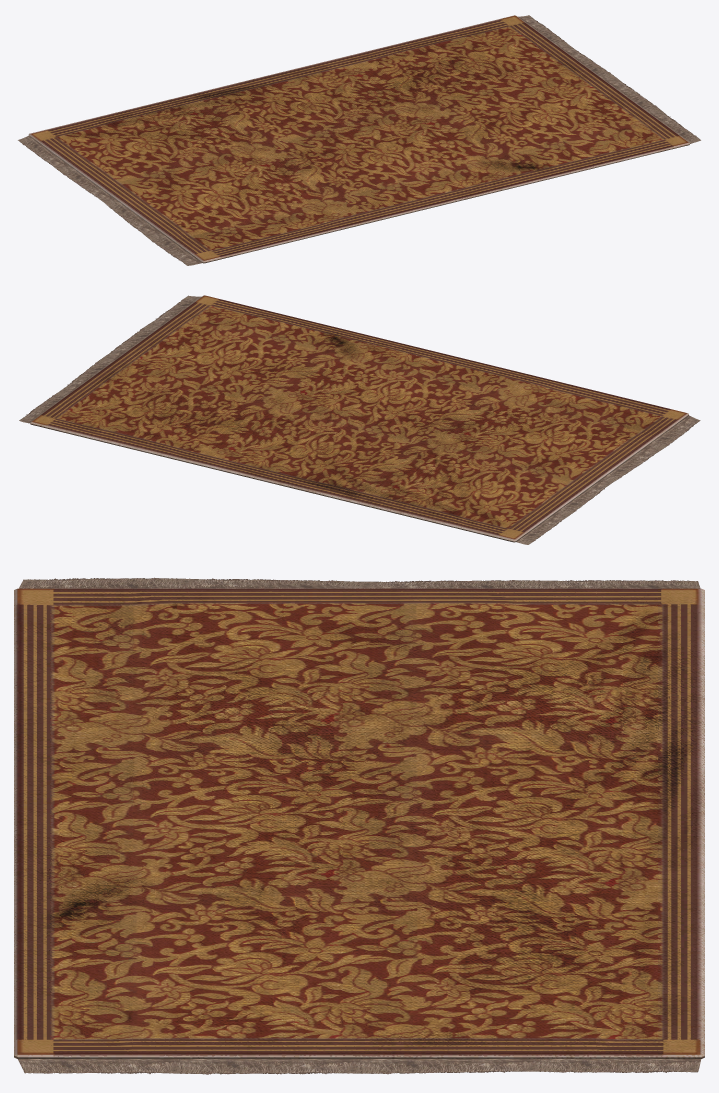
Rendered from Carpet_C.obj.
The picture shows the model from 3 angles, top to bottom: view 1: azimuth 30°, elevation 25°; view 2: azimuth 150°, elevation 25°; view 3: azimuth 270°, elevation 25°; orthographic projection. The views are drawn at different scales.
Visible parts, largest first — view 1: Carpet_C; view 2: Carpet_C; view 3: Carpet_C.
Boxes of the visible parts, <box> form: Carpet_C: <box>18,15,700,265</box>; Carpet_C: <box>19,295,700,544</box>; Carpet_C: <box>14,577,704,1074</box>.
Size of the model in its own units: 331 by 5.1 by 191.
1 material, 1 textured.
